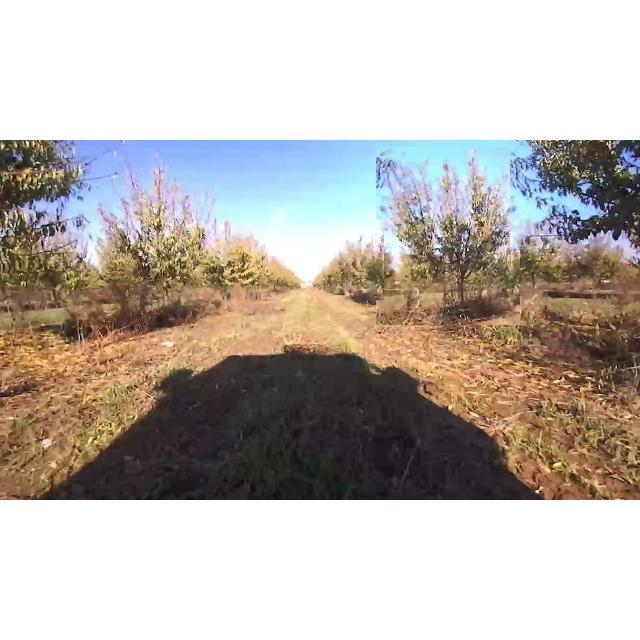direk: (376, 147, 520, 325), (98, 161, 200, 341), (510, 140, 640, 250), (196, 234, 272, 302), (336, 220, 384, 300), (508, 232, 556, 296)
